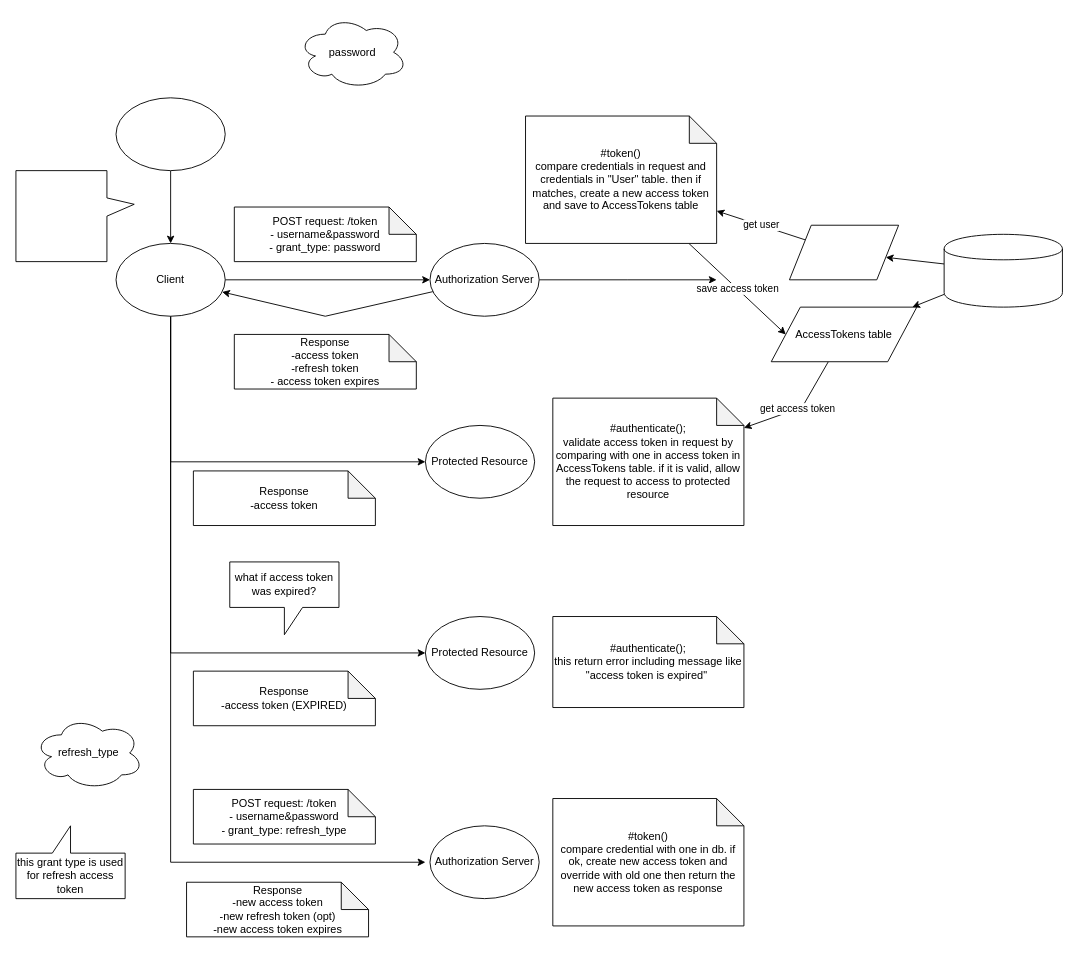
The diagram is 1078 pixels wide and 953 high, and some of its shapes have lost their labels. The centre of each missing label's shape, as x and y in pixels:
DB: the point at 1002,270
Resource Owner (user): the point at 170,134
User table: the point at 844,252
username password: the point at 74,216
